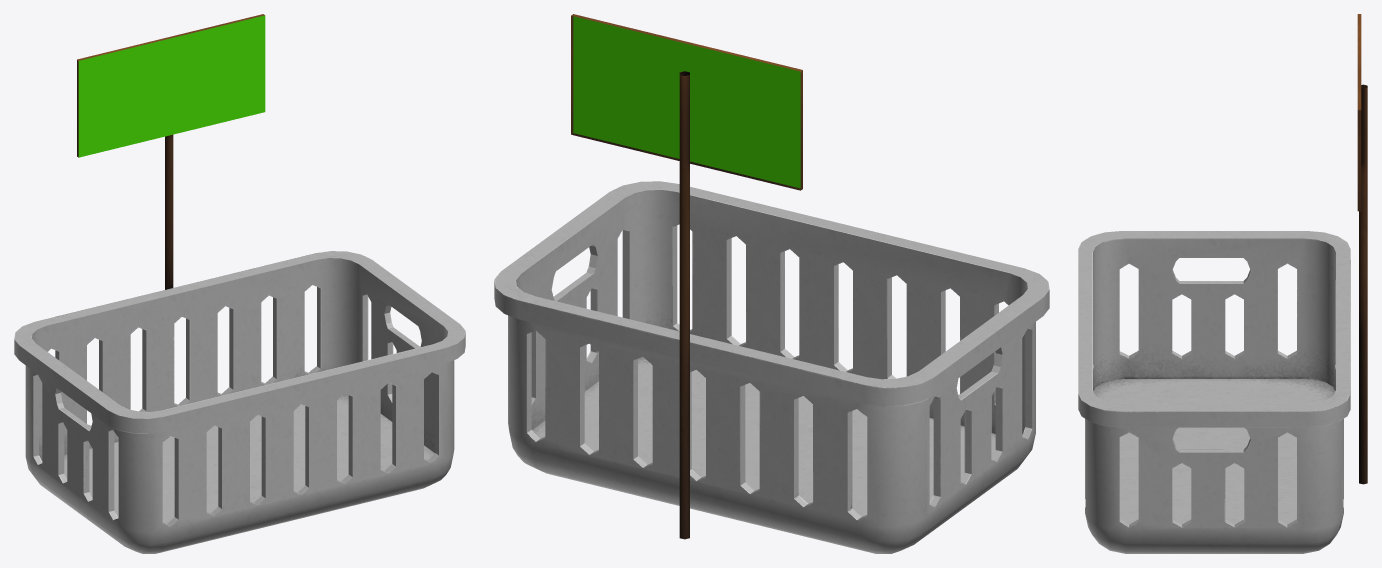
File: Basket.fbx
3 views of the same model, side by side, from view 1: azimuth 30°, elevation 25°; view 2: azimuth 150°, elevation 25°; view 3: azimuth 270°, elevation 25° (orthographic). The views are drawn at different scales.
Visible parts, largest first — view 1: Basket; view 2: Basket; view 3: Basket.
Boxes of the visible parts, <box> form: Basket: <box>14,14,465,553</box>; Basket: <box>494,14,1049,553</box>; Basket: <box>1078,14,1367,553</box>.
Bounding box in the file's own units: 1436 × 1559 × 973.
2 materials, 1 textured.
